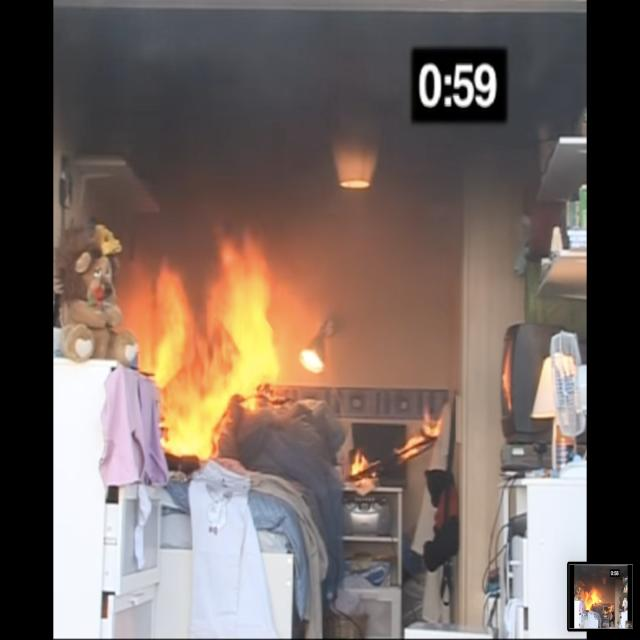Fogo: (120, 207, 444, 537)
